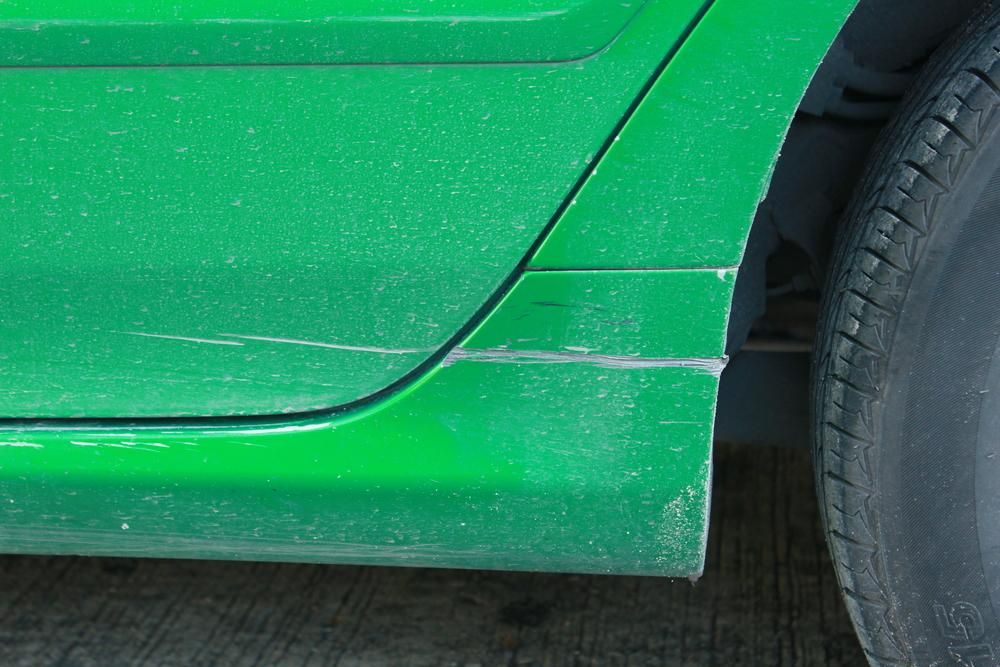scratch: (436, 291, 731, 379), (110, 320, 432, 363), (0, 420, 334, 457)
